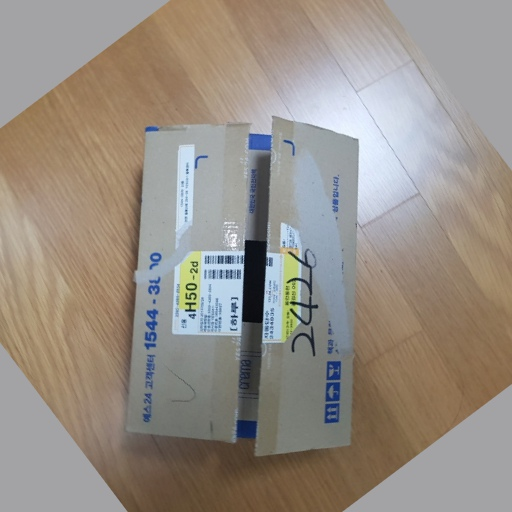Paper_0: (128, 110, 368, 461)
